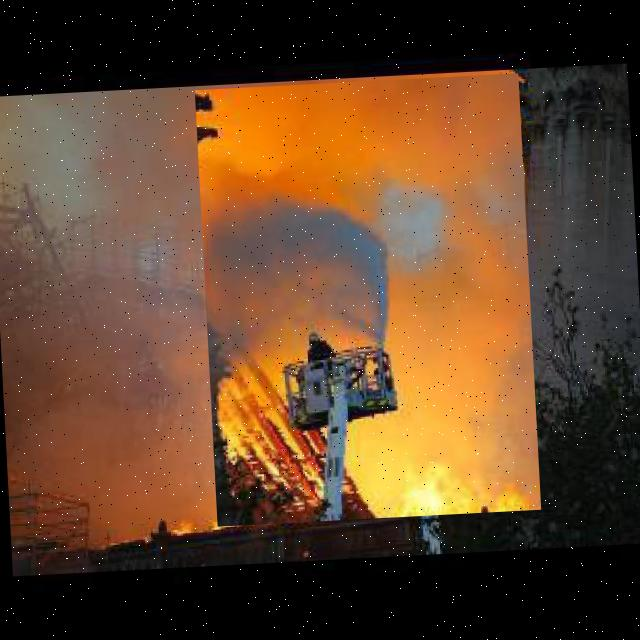fire: (195, 74, 541, 526)
